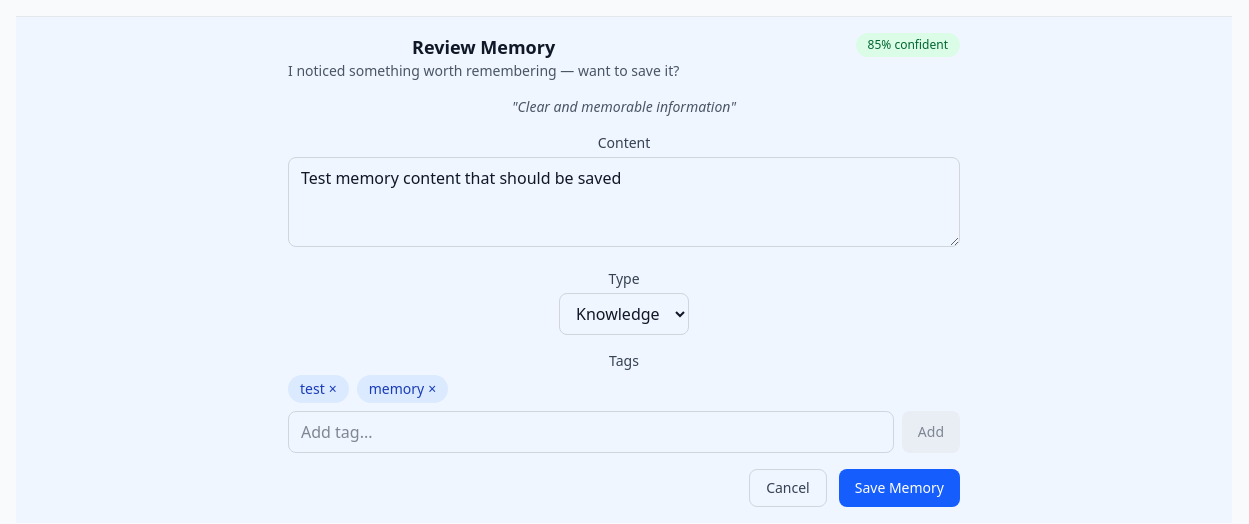
Test case: MemoryExtraction › allows adding new tags
Type "new-tag" into the field with test id "tag-input" at (591, 432), box left=288, top=411, right=894, bottom=453
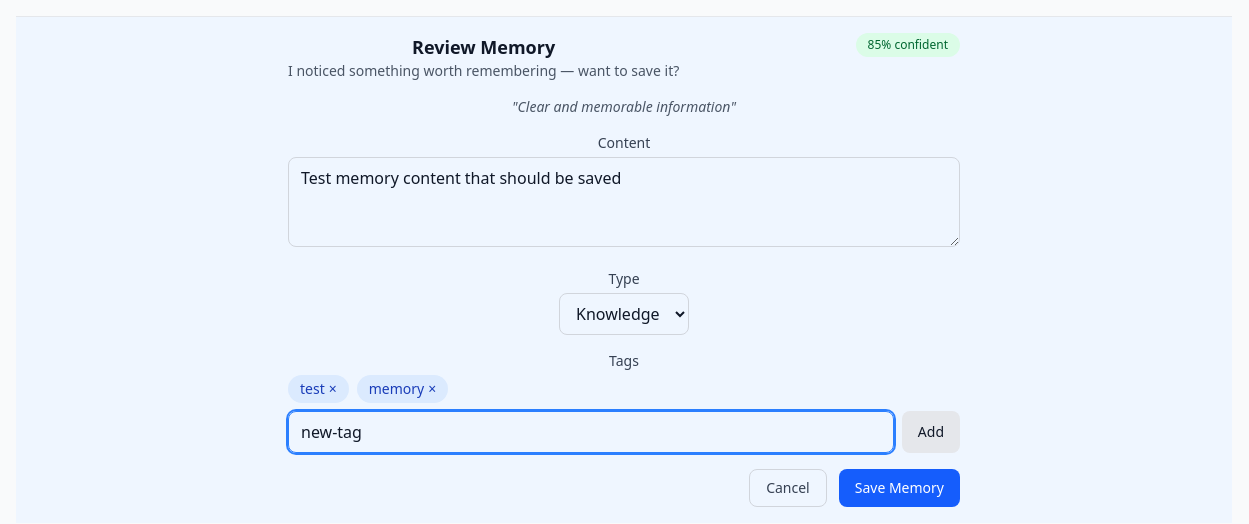
Click the button with test id "add-tag-button" at (931, 432), box left=902, top=411, right=960, bottom=453
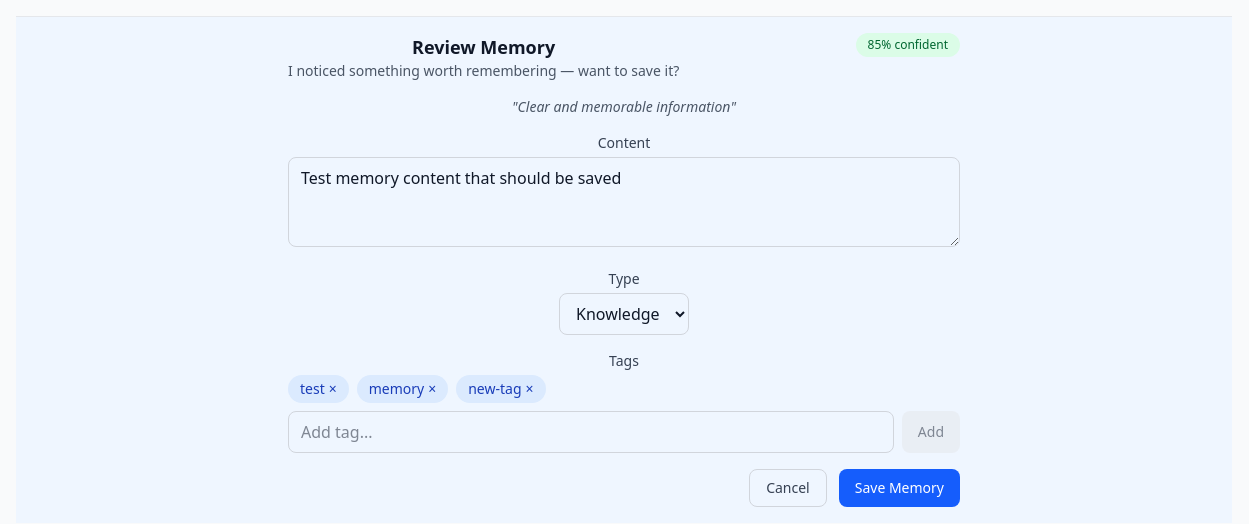
Now the text "new-tag" is shown, box left=468, top=379, right=522, bottom=398
Now the field with test id "tag-input" is empty, box left=288, top=411, right=894, bottom=453
